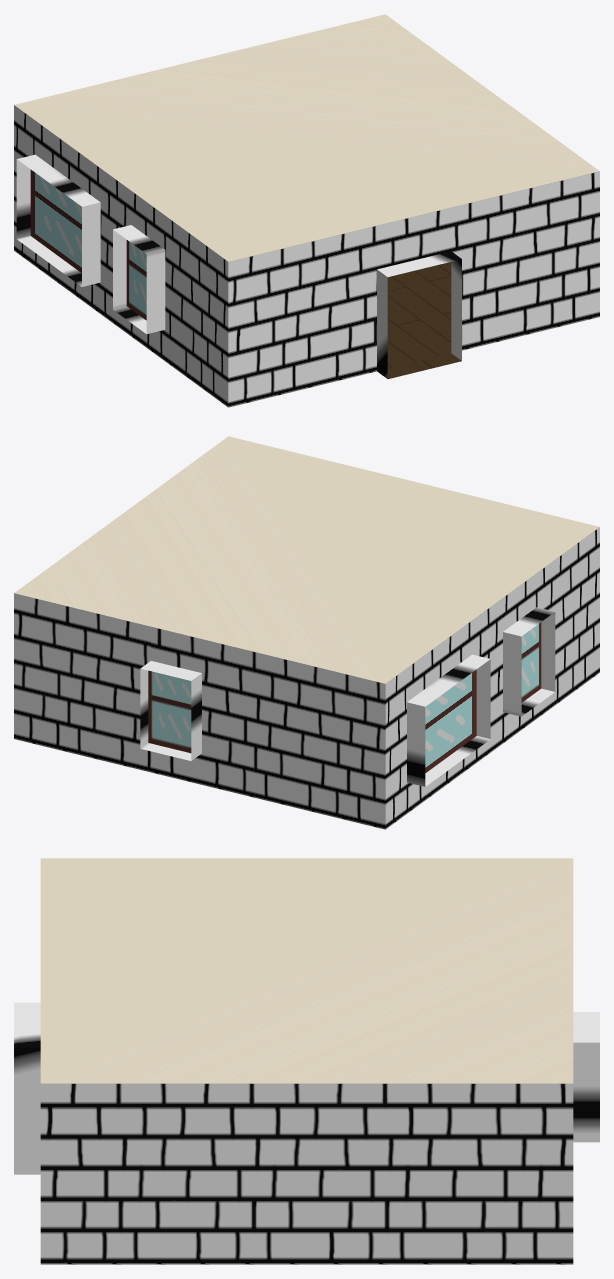
File: Apartment 2.fbx
The picture shows the model from 3 angles, top to bottom: view 1: azimuth 30°, elevation 25°; view 2: azimuth 150°, elevation 25°; view 3: azimuth 270°, elevation 25°; orthographic projection. The views are drawn at different scales.
Visible parts, largest first — view 1: ceiling, wallsOuter, floor, windows; view 2: wallsOuter, ceiling, windows; view 3: ceiling, wallsOuter.
Boxes of the visible parts, left/top/right/bottom form: ceiling: left=14, top=14, right=599, bottom=261; wallsOuter: left=14, top=105, right=599, bottom=407; floor: left=387, top=262, right=461, bottom=378; windows: left=30, top=169, right=146, bottom=320; wallsOuter: left=14, top=527, right=599, bottom=829; ceiling: left=14, top=436, right=599, bottom=683; windows: left=148, top=622, right=541, bottom=772; ceiling: left=40, top=858, right=573, bottom=1083; wallsOuter: left=14, top=1002, right=599, bottom=1264.
Bounding box in the file's own units: 420 × 150 × 440.
